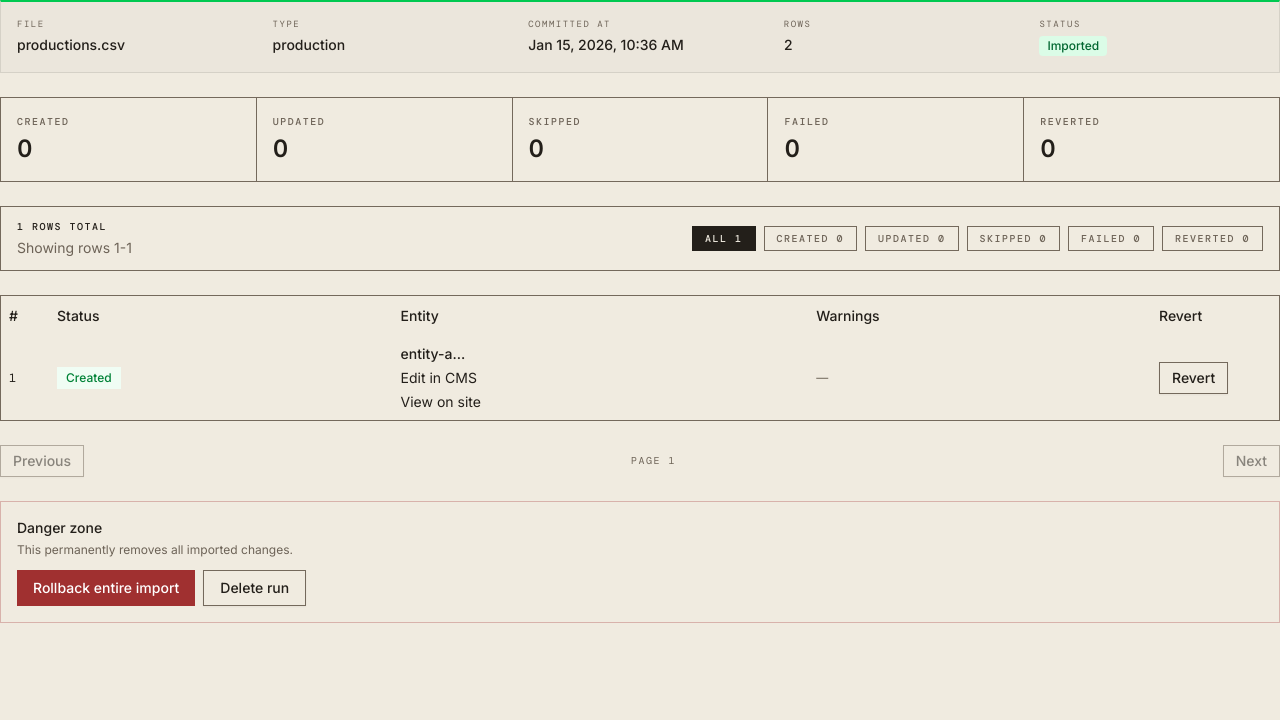
it: HistoryDetail › clicking rollback opens confirm dialog
Step 1. Click the button "Rollback entire import" → {"x": 106, "y": 588}, box x1=17 y1=570 x2=195 y2=606
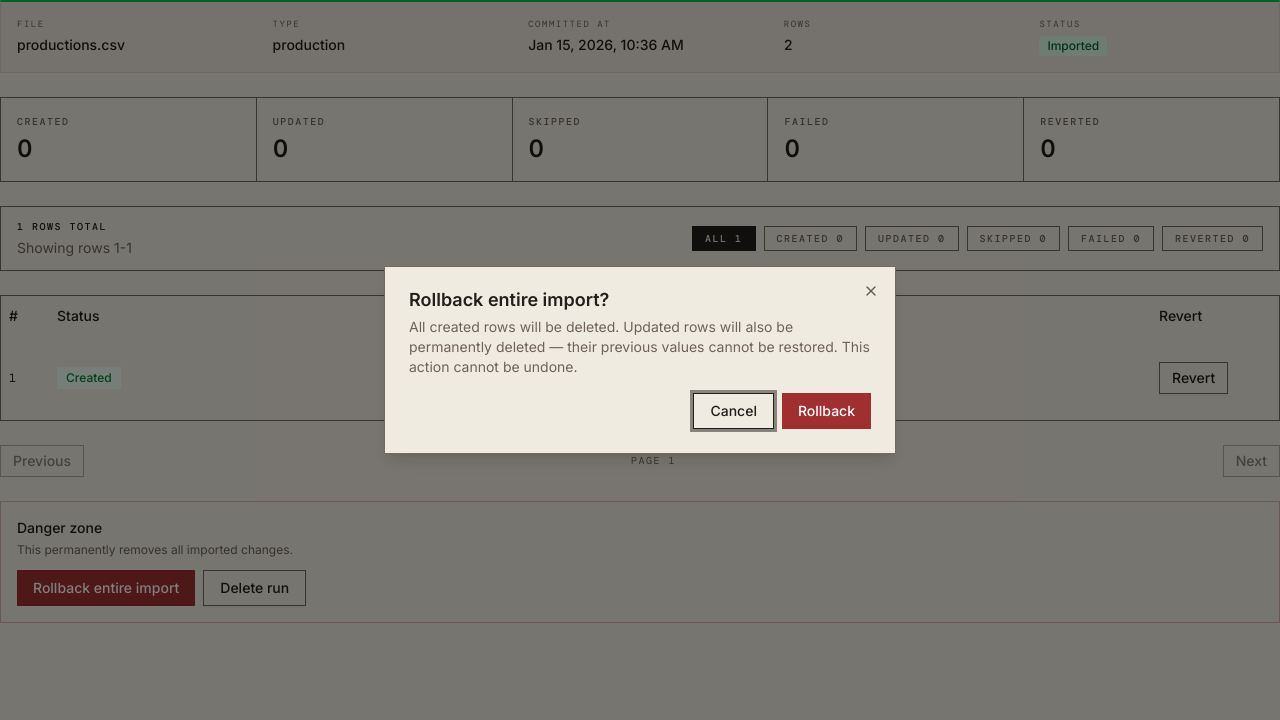
Expected: the heading "Rollback entire import?" is shown, x1=409 y1=289 x2=609 y2=310
